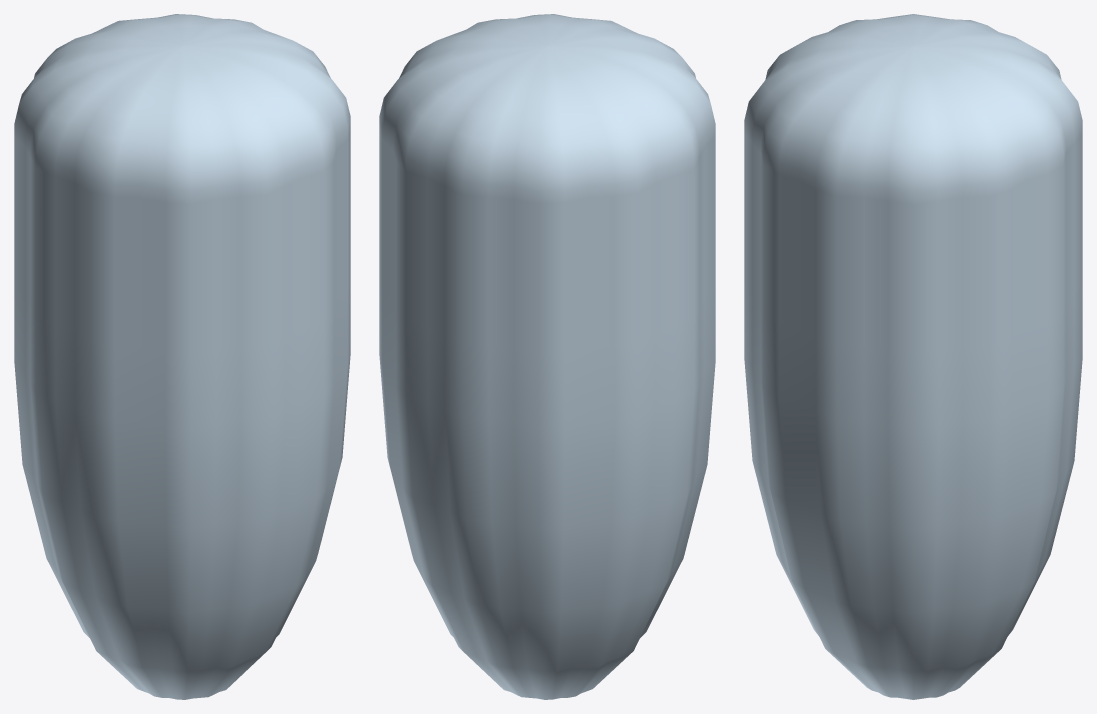
The model's file is shell_small_lens.glb.
3 views of the same model, side by side, from view 1: azimuth 30°, elevation 25°; view 2: azimuth 150°, elevation 25°; view 3: azimuth 270°, elevation 25° (orthographic).
Visible parts, largest first — view 1: Rock; view 2: Rock; view 3: Rock.
Part boxes in pixels (left/top/right/bottom): Rock: left=14, top=14, right=350, bottom=699; Rock: left=379, top=14, right=715, bottom=699; Rock: left=744, top=14, right=1082, bottom=699.
Size of the model in its own units: 1.24 by 2.61 by 1.24.
